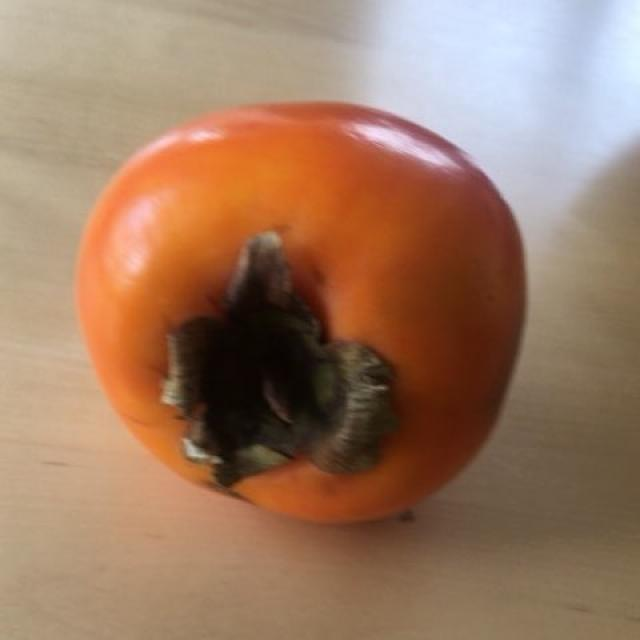kaki: (89, 105, 541, 524)
